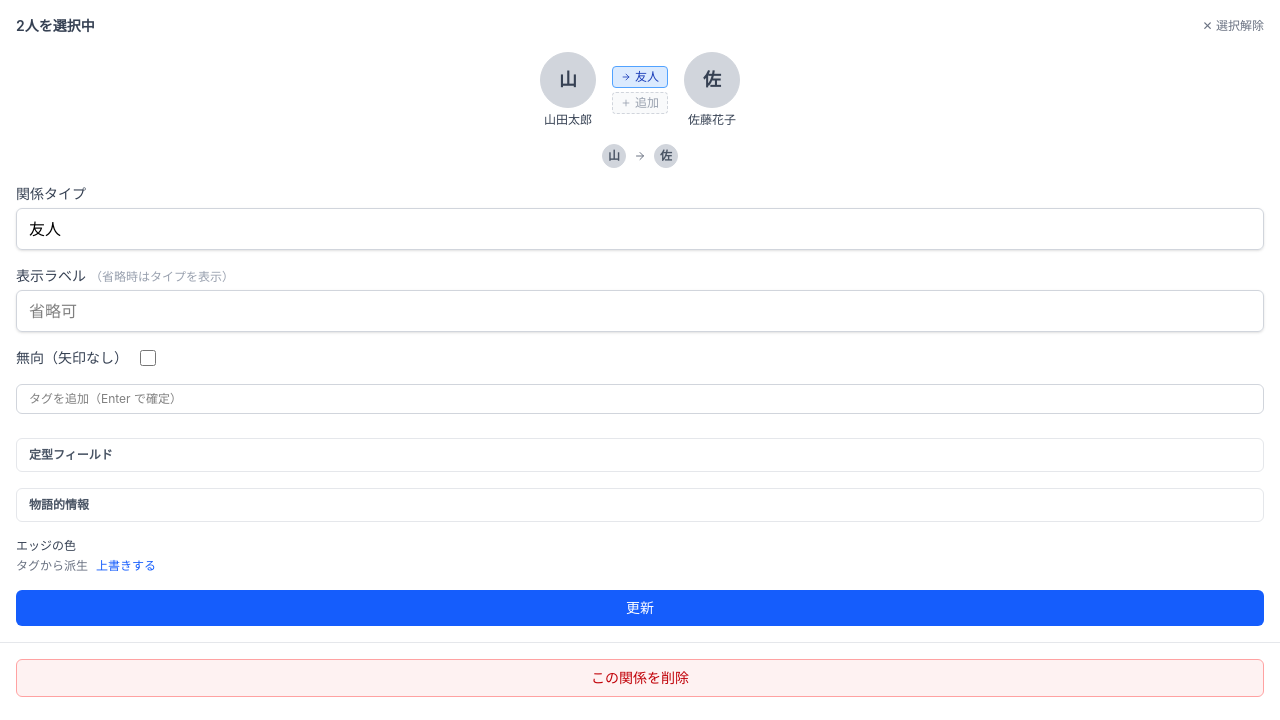
Scenario: PairSelectionPanel › 関連エピソード表示 › occurredAt がどのスナップショットラベルにも一致しない場合はジャンプボタンが表示されない
Click the heading "物語的情報". click: (59, 504)
box: [29,497,89,512]
(page scrolled)
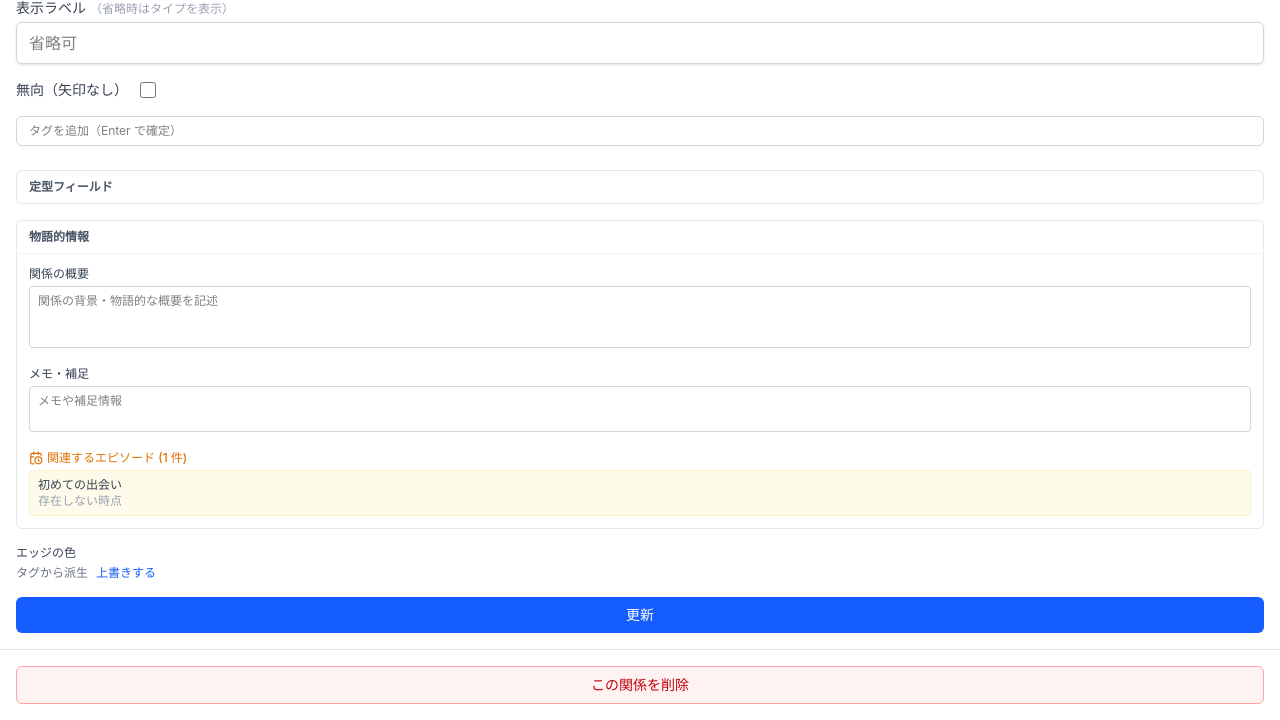
Now the text "初めての出会い" is shown, box [38,477,122,493]
